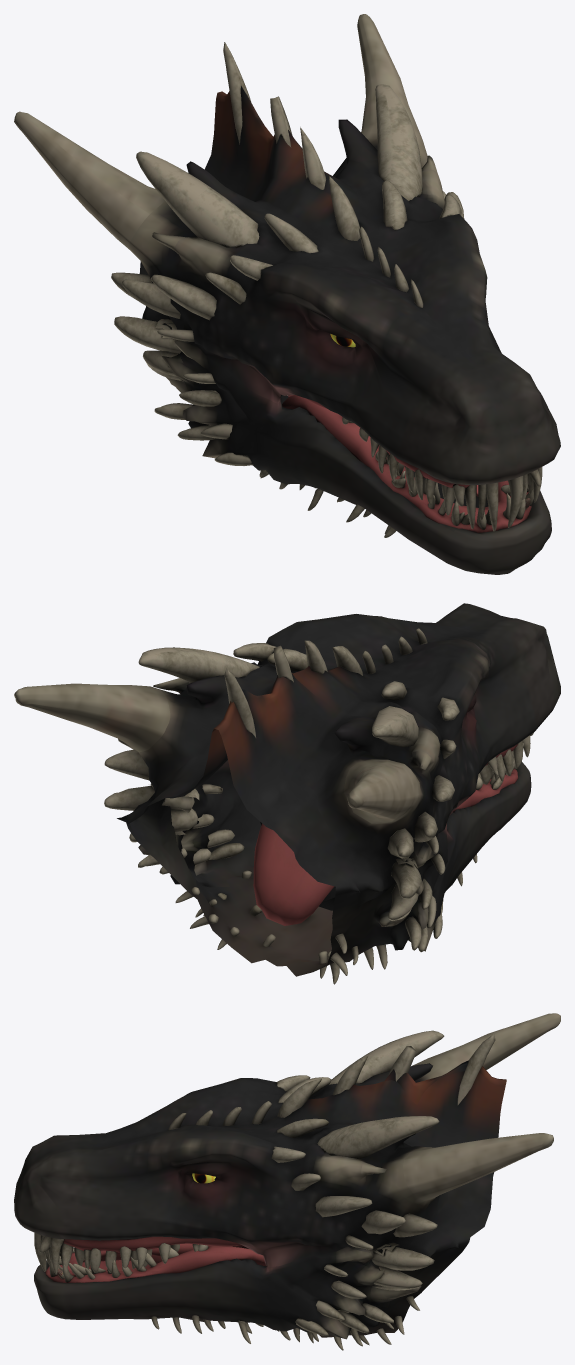
Rendered from dragon_00001.obj.
3 views of the same model, one above another, from view 1: azimuth 30°, elevation 25°; view 2: azimuth 150°, elevation 25°; view 3: azimuth 270°, elevation 25° (orthographic). The views are drawn at different scales.
Parts seen in each view (by area): view 1: Dragon_Untitled; view 2: Dragon_Untitled; view 3: Dragon_Untitled.
Boxes of the visible parts, bbox=[...] form: Dragon_Untitled: bbox=[14, 14, 560, 574]; Dragon_Untitled: bbox=[14, 603, 560, 984]; Dragon_Untitled: bbox=[14, 1013, 560, 1350].
Size of the model in its own units: 2.72 by 2.68 by 4.46.
1 material, 1 textured.
